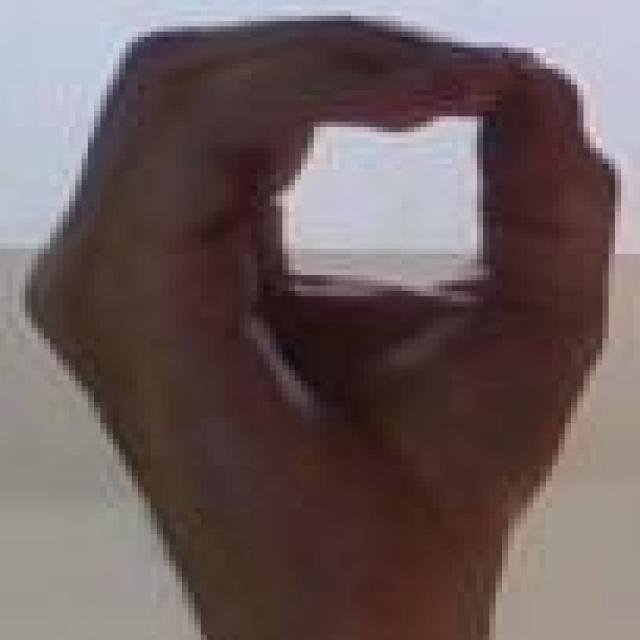O: (8, 2, 640, 506)
